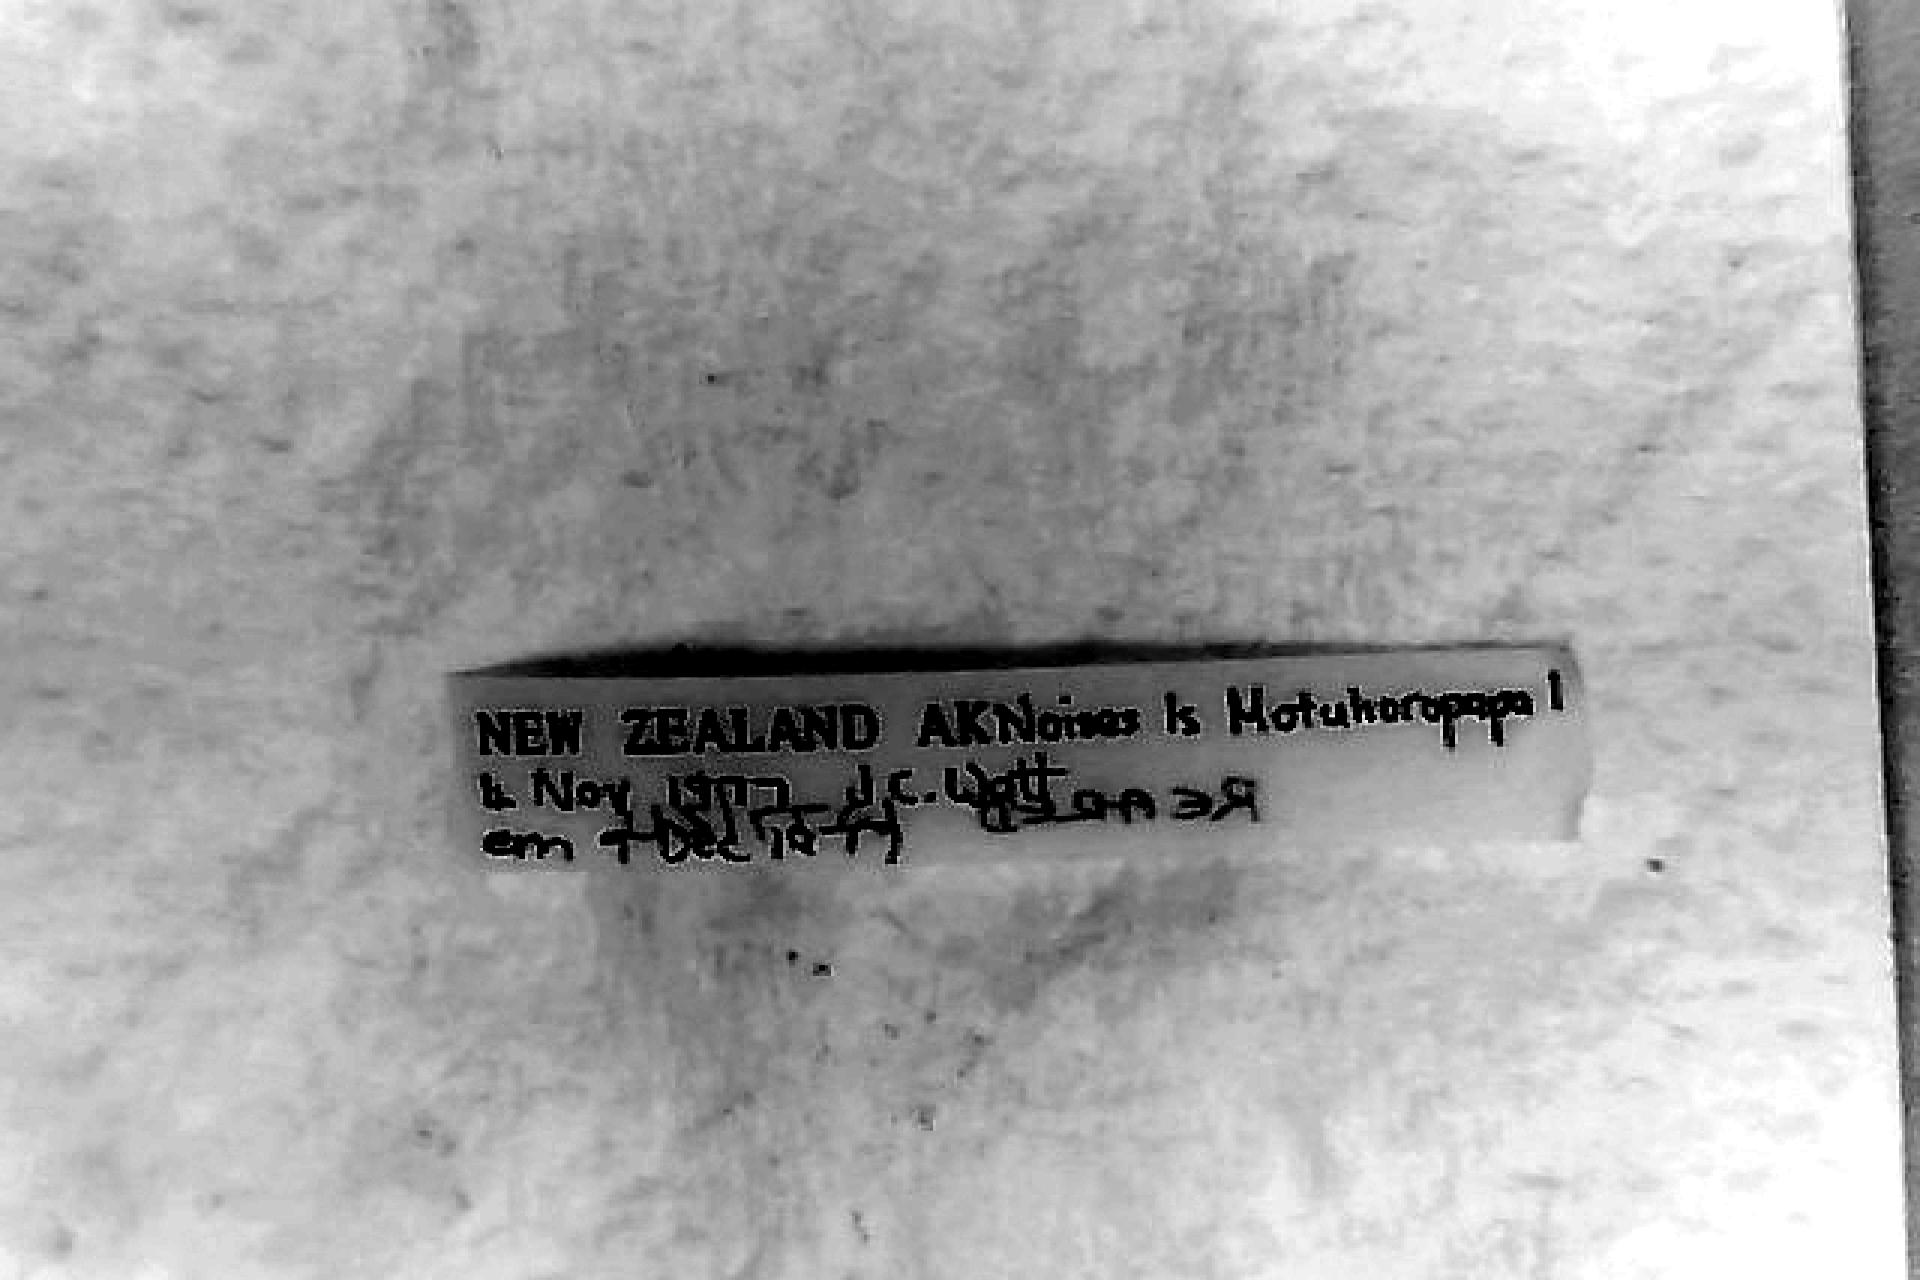mixed_label: (450, 647, 1586, 866)
